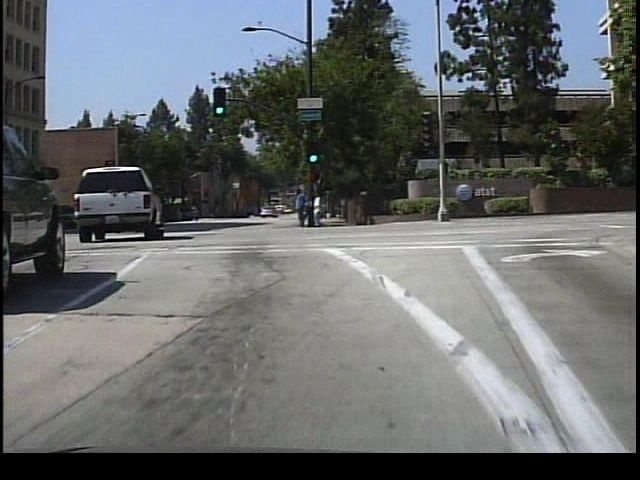person: (291, 181, 310, 230), (314, 190, 328, 229)
